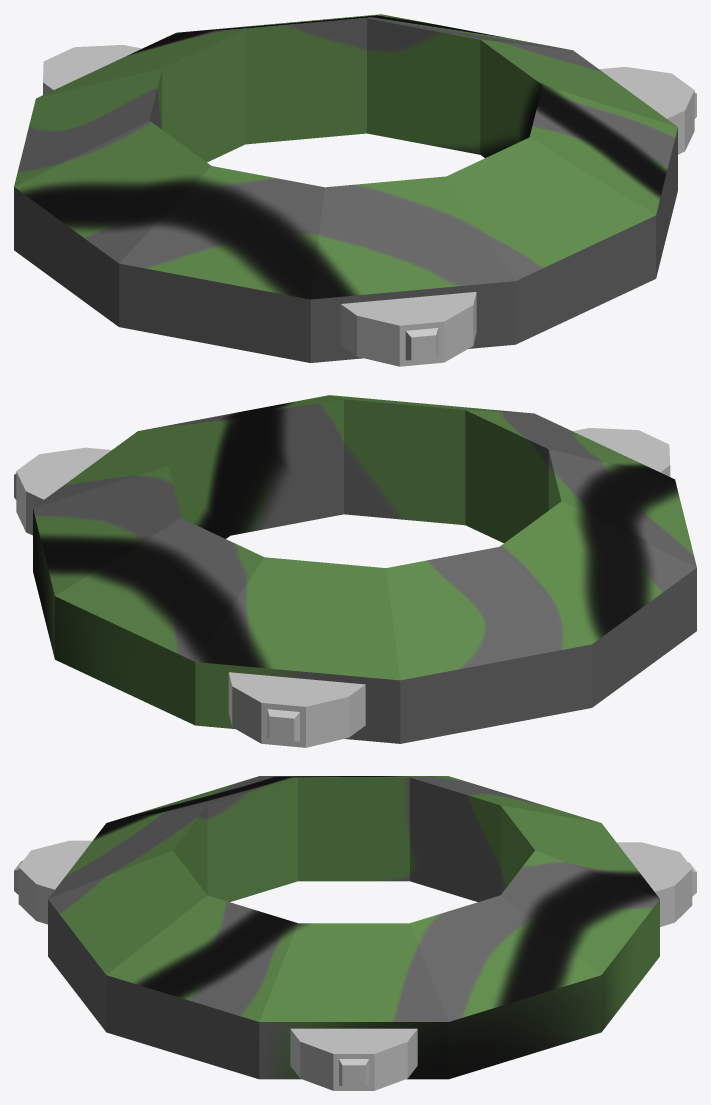
Rendered from nave00.fbx.
3 views of the same model, one above another, from view 1: azimuth 30°, elevation 25°; view 2: azimuth 150°, elevation 25°; view 3: azimuth 270°, elevation 25° (orthographic). The views are drawn at different scales.
Visible parts, largest first — view 1: nave00, can02, can00, can01; view 2: nave00, can01, can00, can02; view 3: nave00, can00, can01, can02.
Boxes of the visible parts, bbox=[...] form: nave00: bbox=[14, 14, 677, 362]; can02: bbox=[340, 292, 476, 366]; can00: bbox=[599, 67, 696, 154]; can01: bbox=[43, 45, 141, 94]; nave00: bbox=[33, 395, 696, 743]; can01: bbox=[228, 672, 365, 747]; can00: bbox=[14, 447, 111, 535]; can02: bbox=[573, 428, 670, 476]; nave00: bbox=[48, 776, 659, 1079]; can00: bbox=[290, 1028, 417, 1090]; can01: bbox=[616, 842, 696, 926]; can02: bbox=[14, 840, 92, 924].
Bounding box in the file's own units: 1059 × 191 × 1113.
